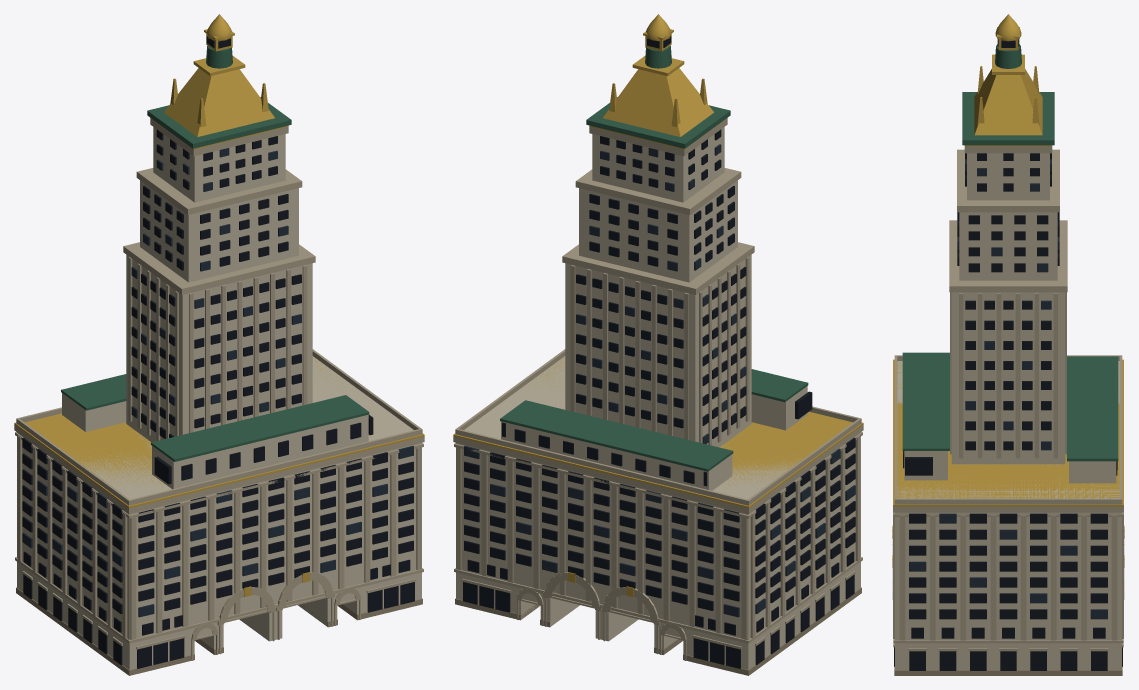
The model's file is helmsley.glb.
3 views of the same model, side by side, from view 1: azimuth 30°, elevation 25°; view 2: azimuth 150°, elevation 25°; view 3: azimuth 270°, elevation 25° (orthographic).
Parts seen in each view (by area): view 1: helmsley; view 2: helmsley; view 3: helmsley.
Part boxes in pixels (box(x1,y1,x2,y2)): helmsley: box(14, 14, 424, 675); helmsley: box(453, 14, 863, 675); helmsley: box(892, 14, 1124, 675).
Bounding box in the file's own units: 91.1 × 172 × 61.5.
